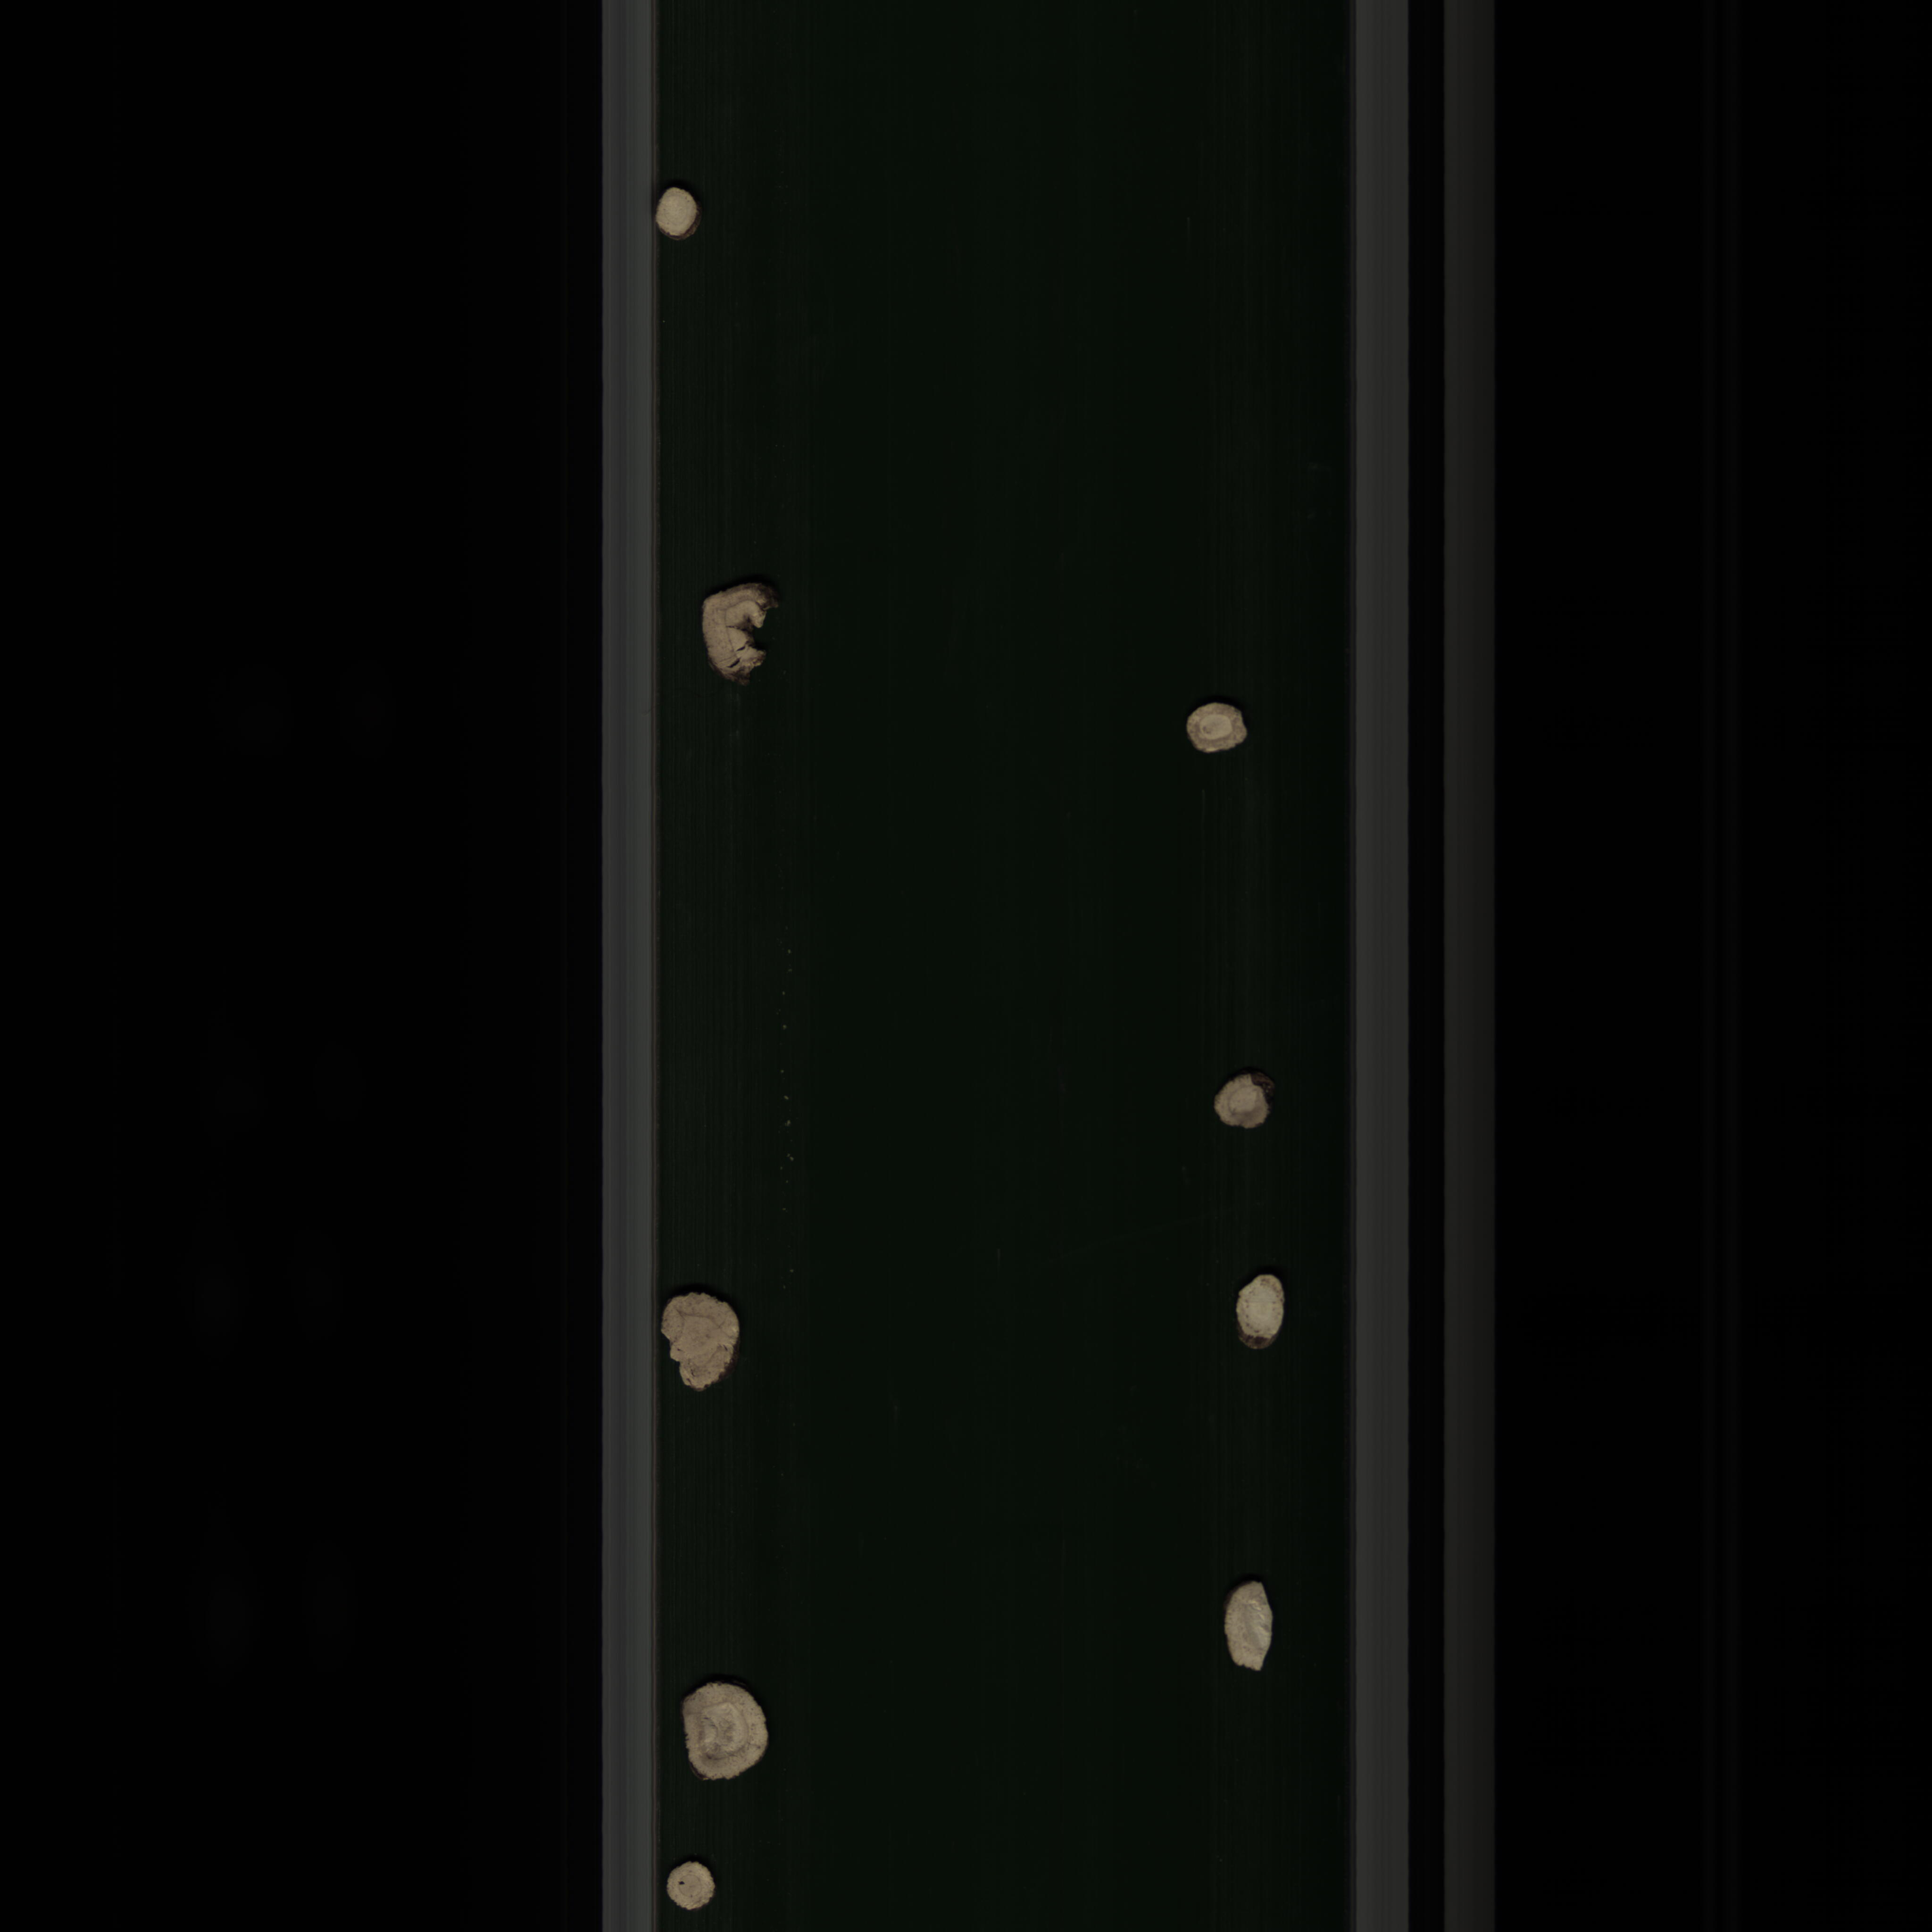debris: (660, 1284, 750, 1399), (1221, 1575, 1286, 1677)
hole: (667, 1858, 727, 1916)
moldy: (695, 584, 793, 690), (1207, 1069, 1281, 1134)
